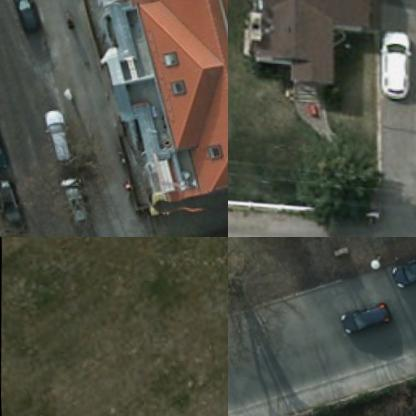car: (379, 22, 415, 96), (338, 297, 392, 333), (60, 176, 94, 225), (46, 108, 74, 160), (0, 179, 25, 236), (384, 245, 415, 288), (13, 0, 43, 36)
